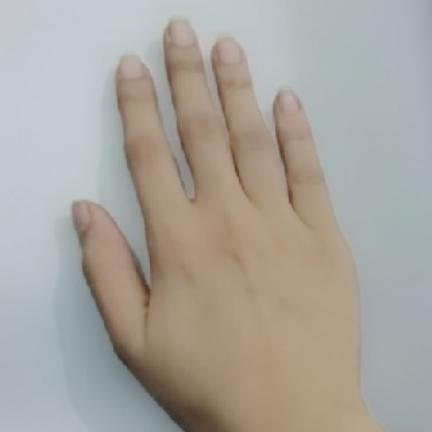Nail: (168, 18, 196, 48), (215, 35, 240, 66), (277, 85, 299, 113), (73, 201, 90, 234), (121, 53, 141, 79)
